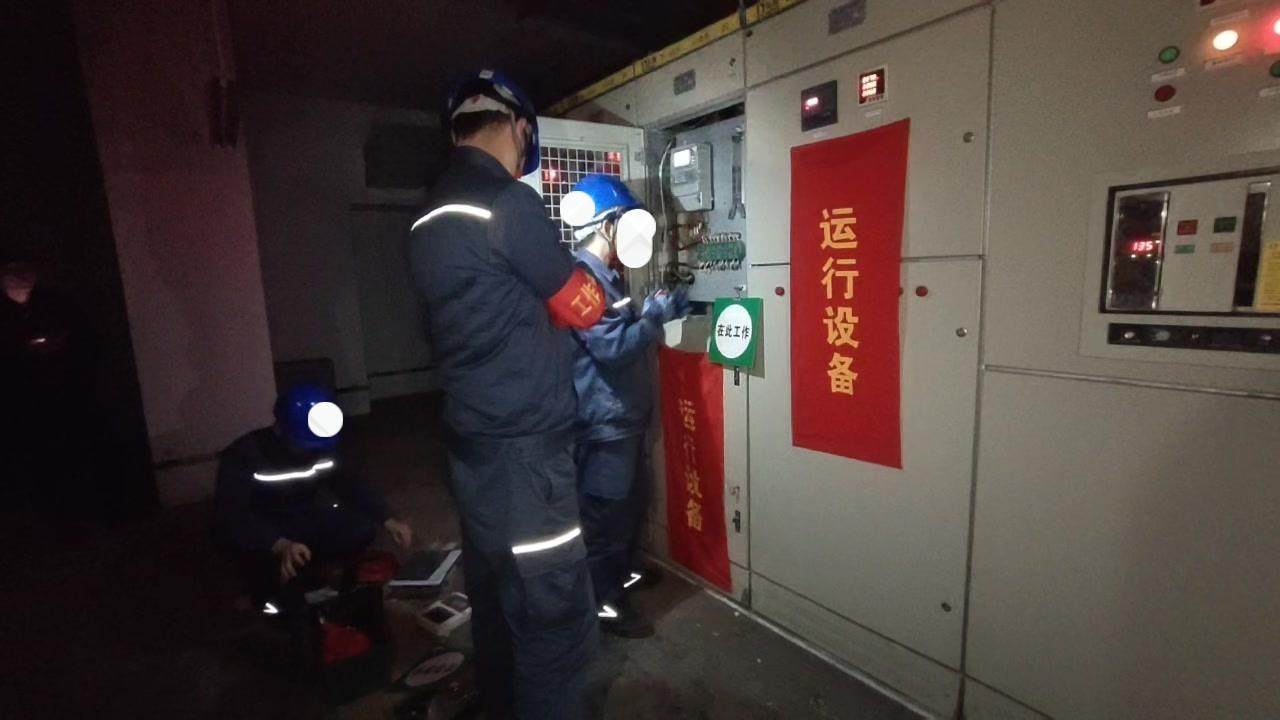halt: (445, 70, 542, 174), (572, 175, 646, 259), (275, 385, 346, 458)
inear: (598, 213, 631, 259)
unhalt: (3, 257, 45, 306)
